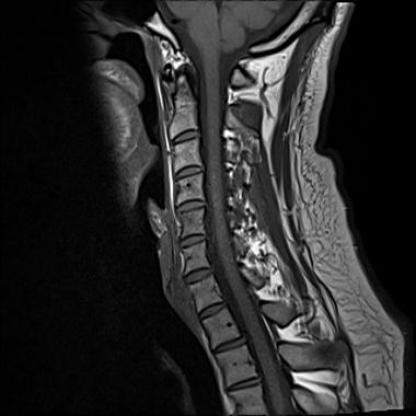Disc Bulgerotation: (183, 263, 213, 288), (173, 165, 204, 180)
